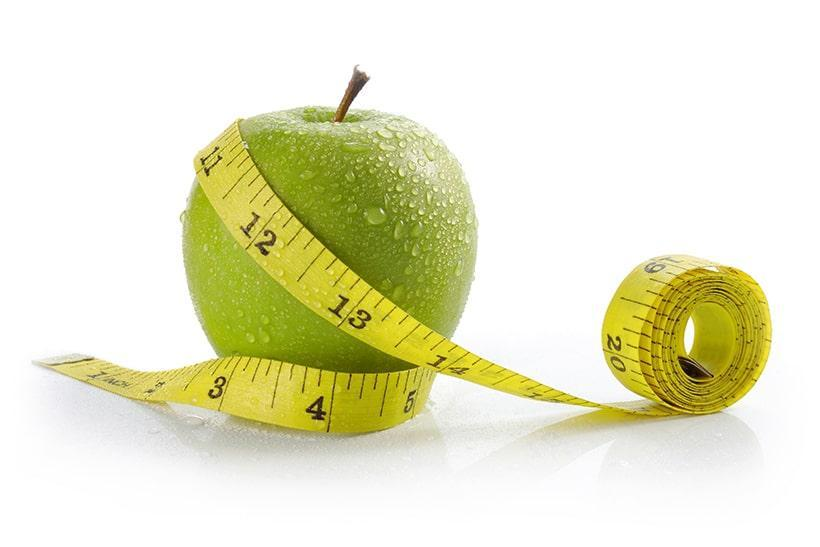apple: (180, 103, 476, 374)
